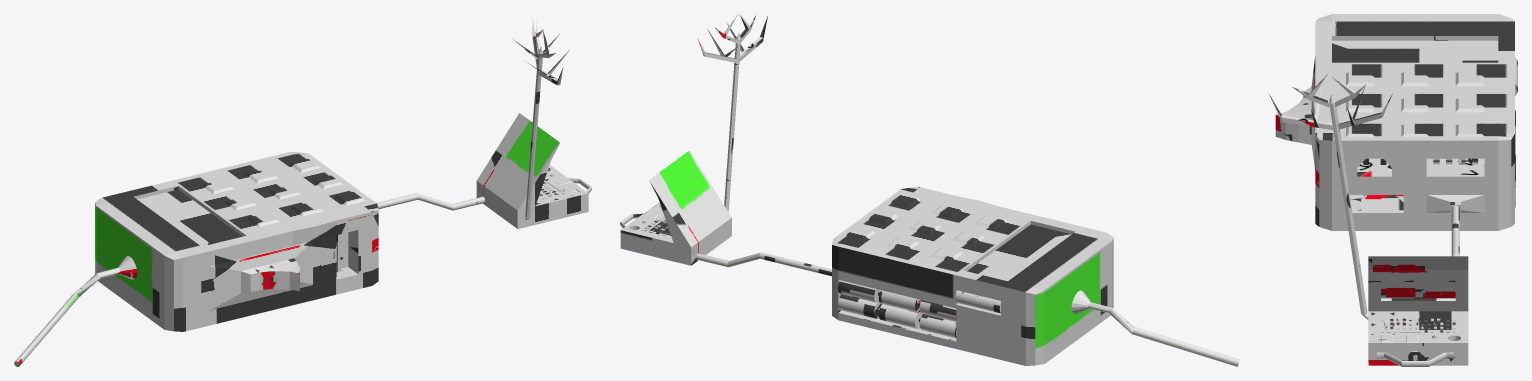
The model's file is BombwDefuser.fbx.
3 renders of one model, left to right at view 1: azimuth 30°, elevation 25°; view 2: azimuth 150°, elevation 25°; view 3: azimuth 270°, elevation 25°, orthographic. The views are drawn at different scales.
Visible parts, largest first — view 1: Bomb; view 2: Bomb; view 3: Bomb.
Part boxes in pixels (x1,y1,x2,y2): Bomb: (14, 16, 591, 366); Bomb: (620, 15, 1239, 366); Bomb: (1269, 14, 1517, 366).
Size of the model in its own units: 1677 by 595 by 501.
